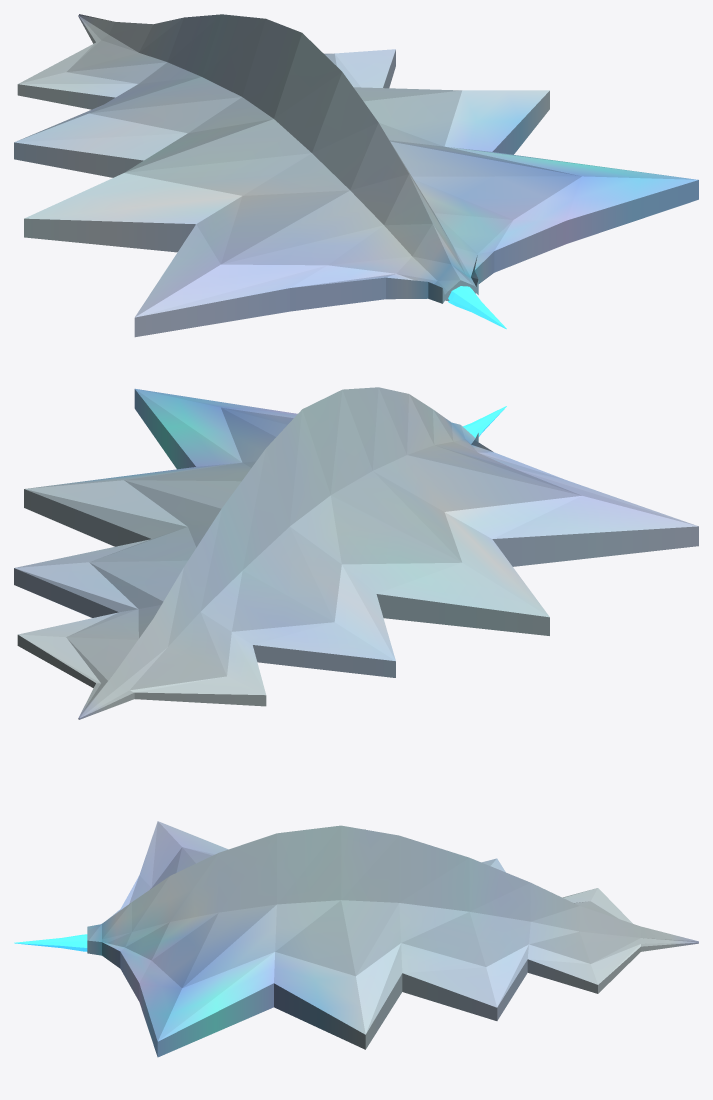
Rendered from 06_titan.glb.
3 renders of one model, top to bottom at view 1: azimuth 30°, elevation 25°; view 2: azimuth 150°, elevation 25°; view 3: azimuth 270°, elevation 25°, orthographic. The views are drawn at different scales.
Visible parts, largest first — view 1: Hull, FX_drive; view 2: Hull; view 3: Hull, FX_drive.
Part boxes in pixels (<box>): Hull: <box>14,14,698,337</box>; FX_drive: <box>448,286,506,329</box>; Hull: <box>14,387,698,719</box>; Hull: <box>87,821,698,1057</box>; FX_drive: <box>14,934,87,951</box>.
Size of the model in its own units: 24.95 by 9.59 by 32.72.
